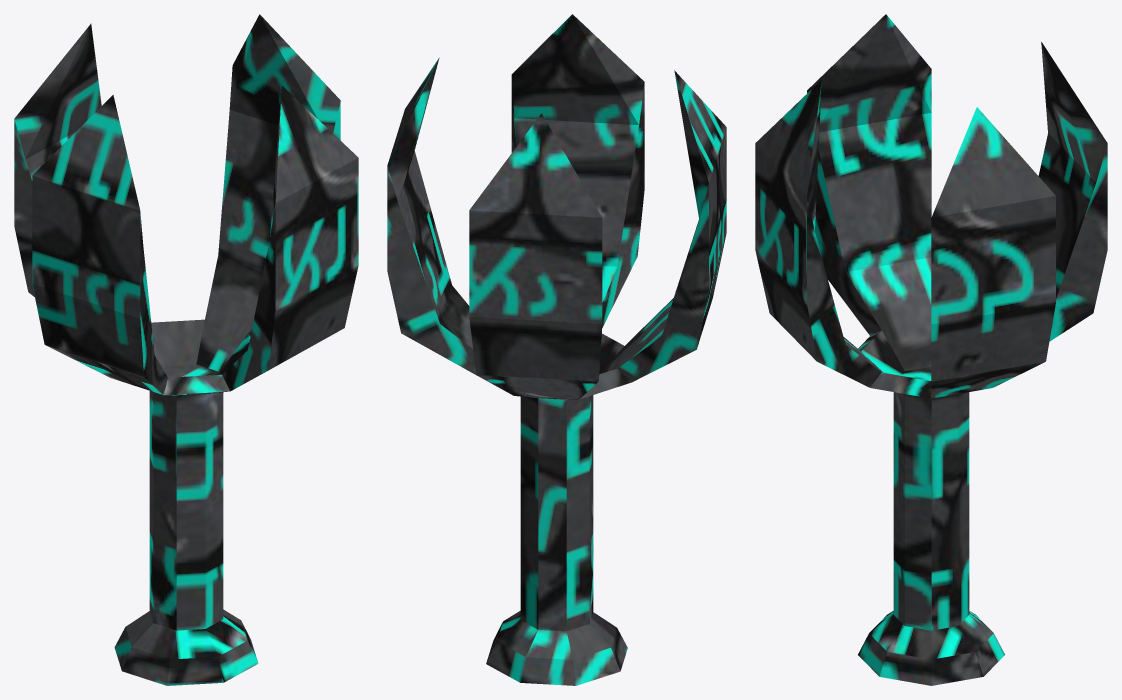
File: tower.obj
3 renders of one model, left to right at view 1: azimuth 30°, elevation 25°; view 2: azimuth 150°, elevation 25°; view 3: azimuth 270°, elevation 25°, orthographic.
Parts seen in each view (by area): view 1: Circle; view 2: Circle; view 3: Circle.
Part boxes in pixels (x1,y1,x2,y2): Circle: [14, 14, 358, 685]; Circle: [387, 14, 726, 685]; Circle: [755, 14, 1107, 685].
Bounding box in the file's own units: 4.78 × 8.9 × 4.78.
1 material, 1 textured.
